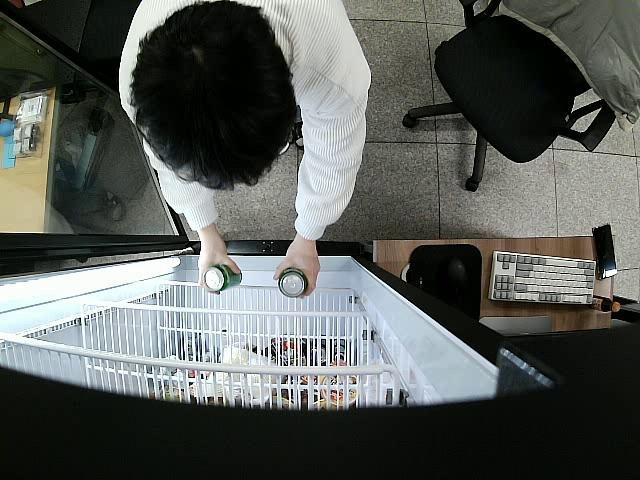12_chilsungCider: (202, 264, 242, 292), (278, 266, 308, 300)
